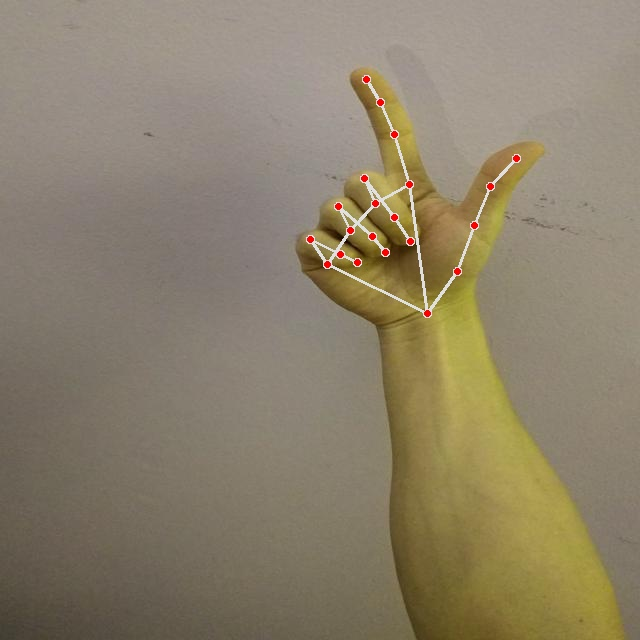L: (288, 61, 552, 328)
